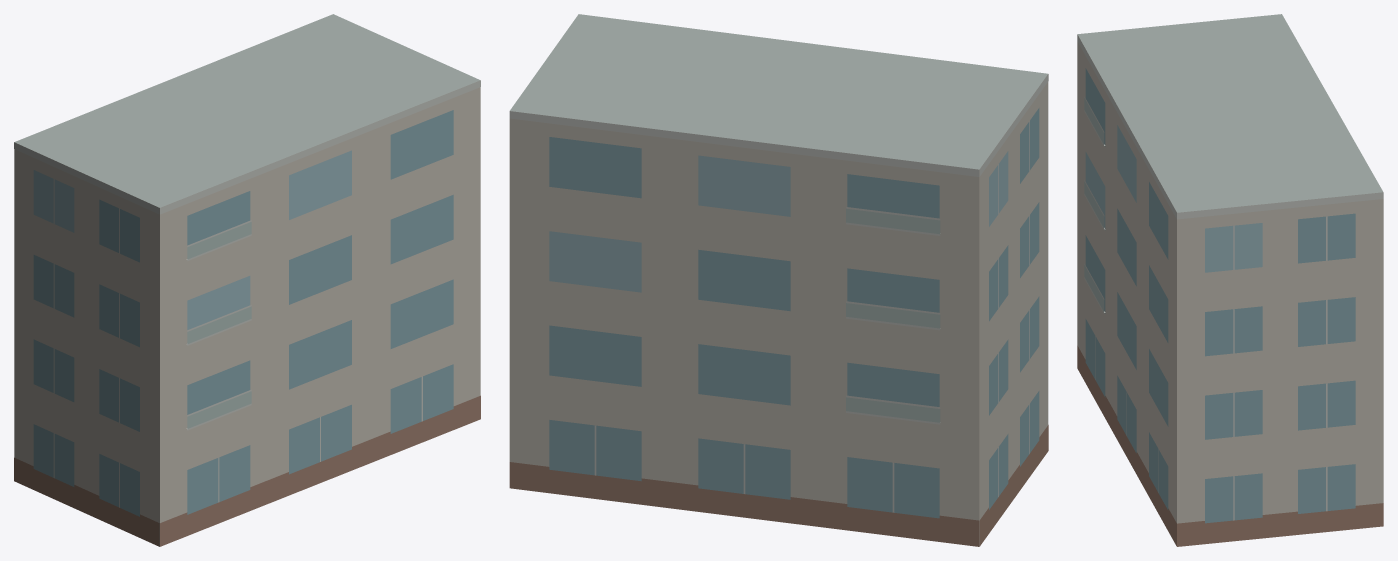
Rendered from survey-upis-32805257.glb.
3 renders of one model, left to right at view 1: azimuth 30°, elevation 25°; view 2: azimuth 150°, elevation 25°; view 3: azimuth 270°, elevation 25°, orthographic. The views are drawn at different scales.
Visible parts, largest first — view 1: survey-upis-32805257.tmp; view 2: survey-upis-32805257.tmp; view 3: survey-upis-32805257.tmp.
Boxes of the visible parts, bbox=[...] form: survey-upis-32805257.tmp: bbox=[14, 14, 480, 546]; survey-upis-32805257.tmp: bbox=[509, 14, 1048, 546]; survey-upis-32805257.tmp: bbox=[1077, 14, 1383, 546].
Bounding box in the file's own units: 15.58 × 12.2 × 10.15.
